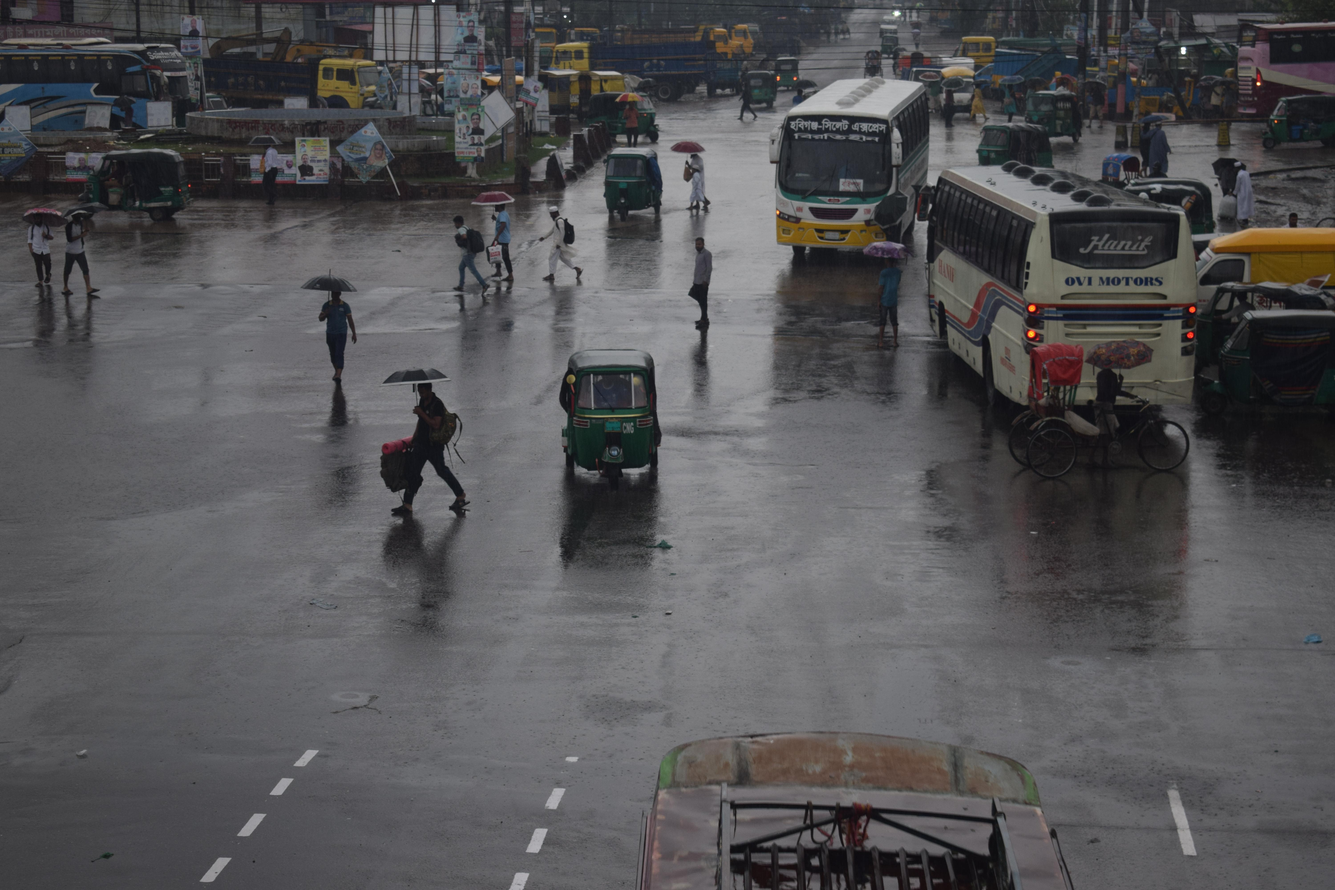Bus: (540, 661, 1138, 890), (898, 129, 1225, 456), (724, 67, 971, 291), (0, 10, 224, 181), (1221, 0, 1335, 134)
Car: (1181, 210, 1335, 324)
Truck: (200, 42, 407, 125), (534, 29, 736, 113)
